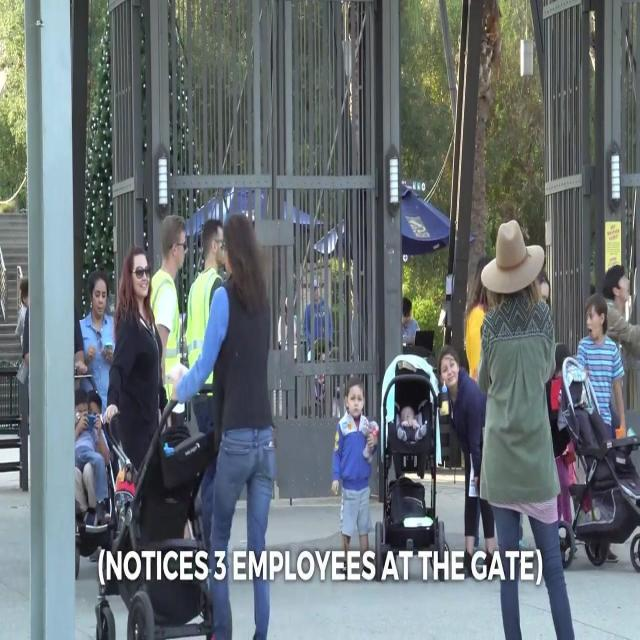Vest: (185, 270, 224, 396), (149, 266, 179, 402)
